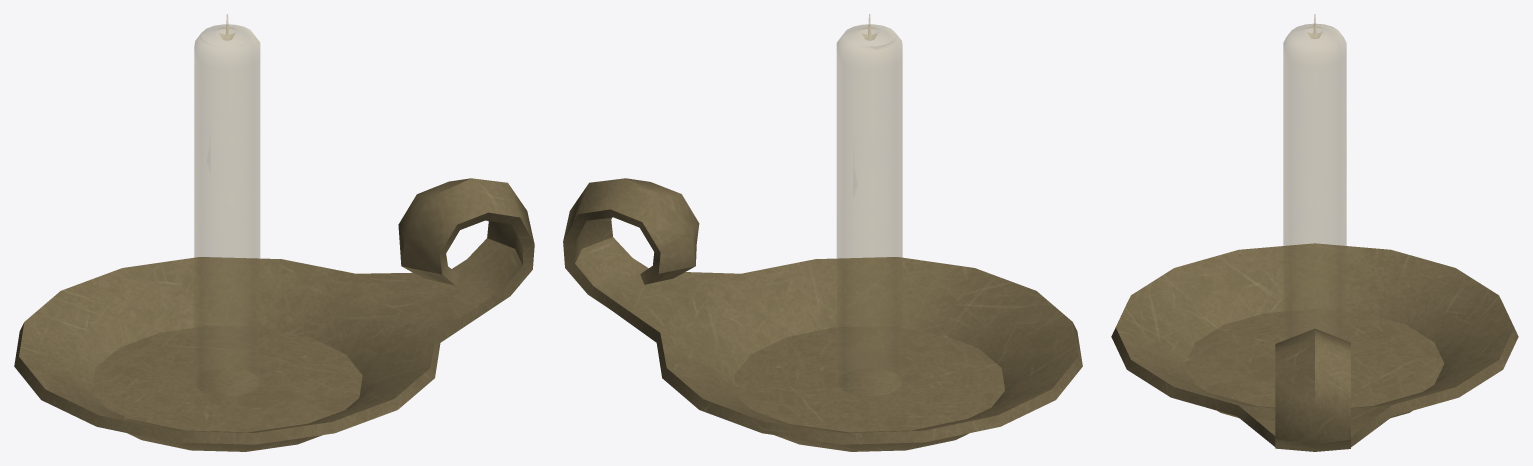
File: Candel.glb
3 renders of one model, left to right at view 1: azimuth 30°, elevation 25°; view 2: azimuth 150°, elevation 25°; view 3: azimuth 270°, elevation 25°, orthographic. The views are drawn at different scales.
Visible parts, largest first — view 1: Base.001, Candel.001; view 2: Base.001, Candel.001; view 3: Base.001, Candel.001.
Part boxes in pixels (left/top/right/bottom): Base.001: left=14, top=178, right=534, bottom=451; Candel.001: left=194, top=14, right=259, bottom=395; Base.001: left=563, top=178, right=1082, bottom=451; Candel.001: left=837, top=14, right=902, bottom=395; Base.001: left=1111, top=243, right=1518, bottom=451; Candel.001: left=1283, top=14, right=1346, bottom=340.
Bounding box in the file's own units: 12.42 × 9.25 × 9.51.
2 materials, 2 textured.
